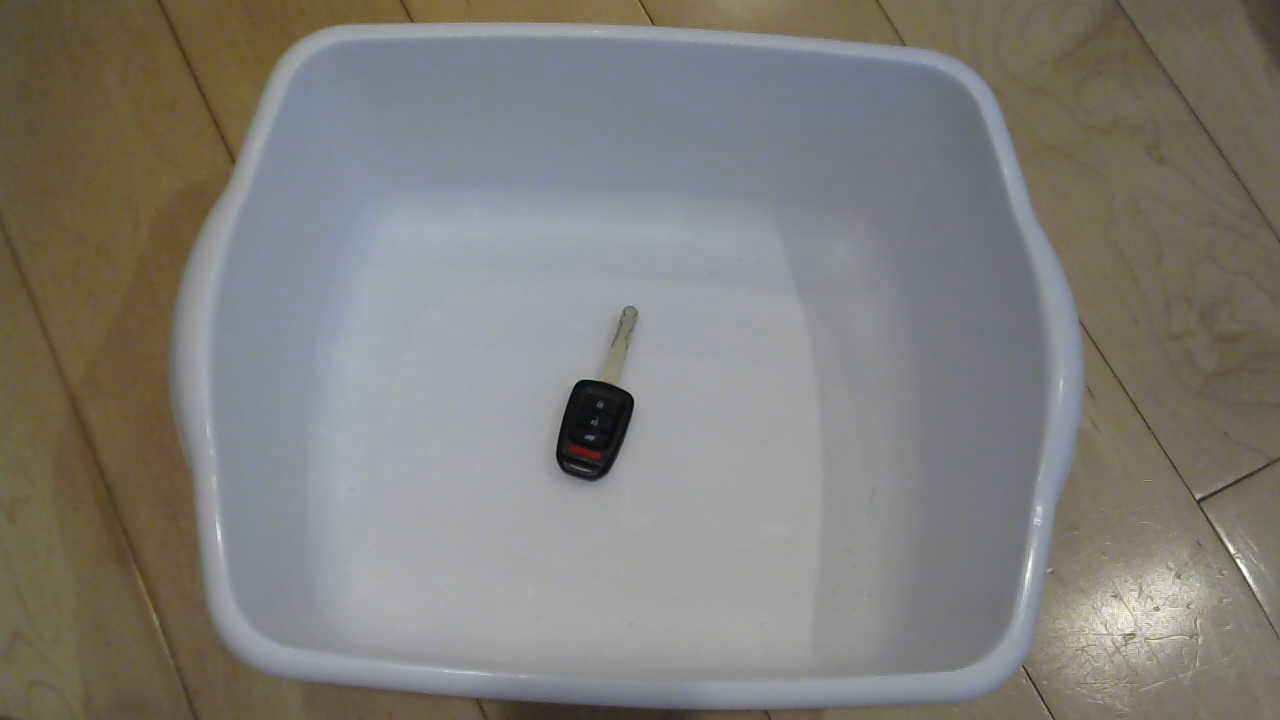key: (523, 303, 666, 485)
